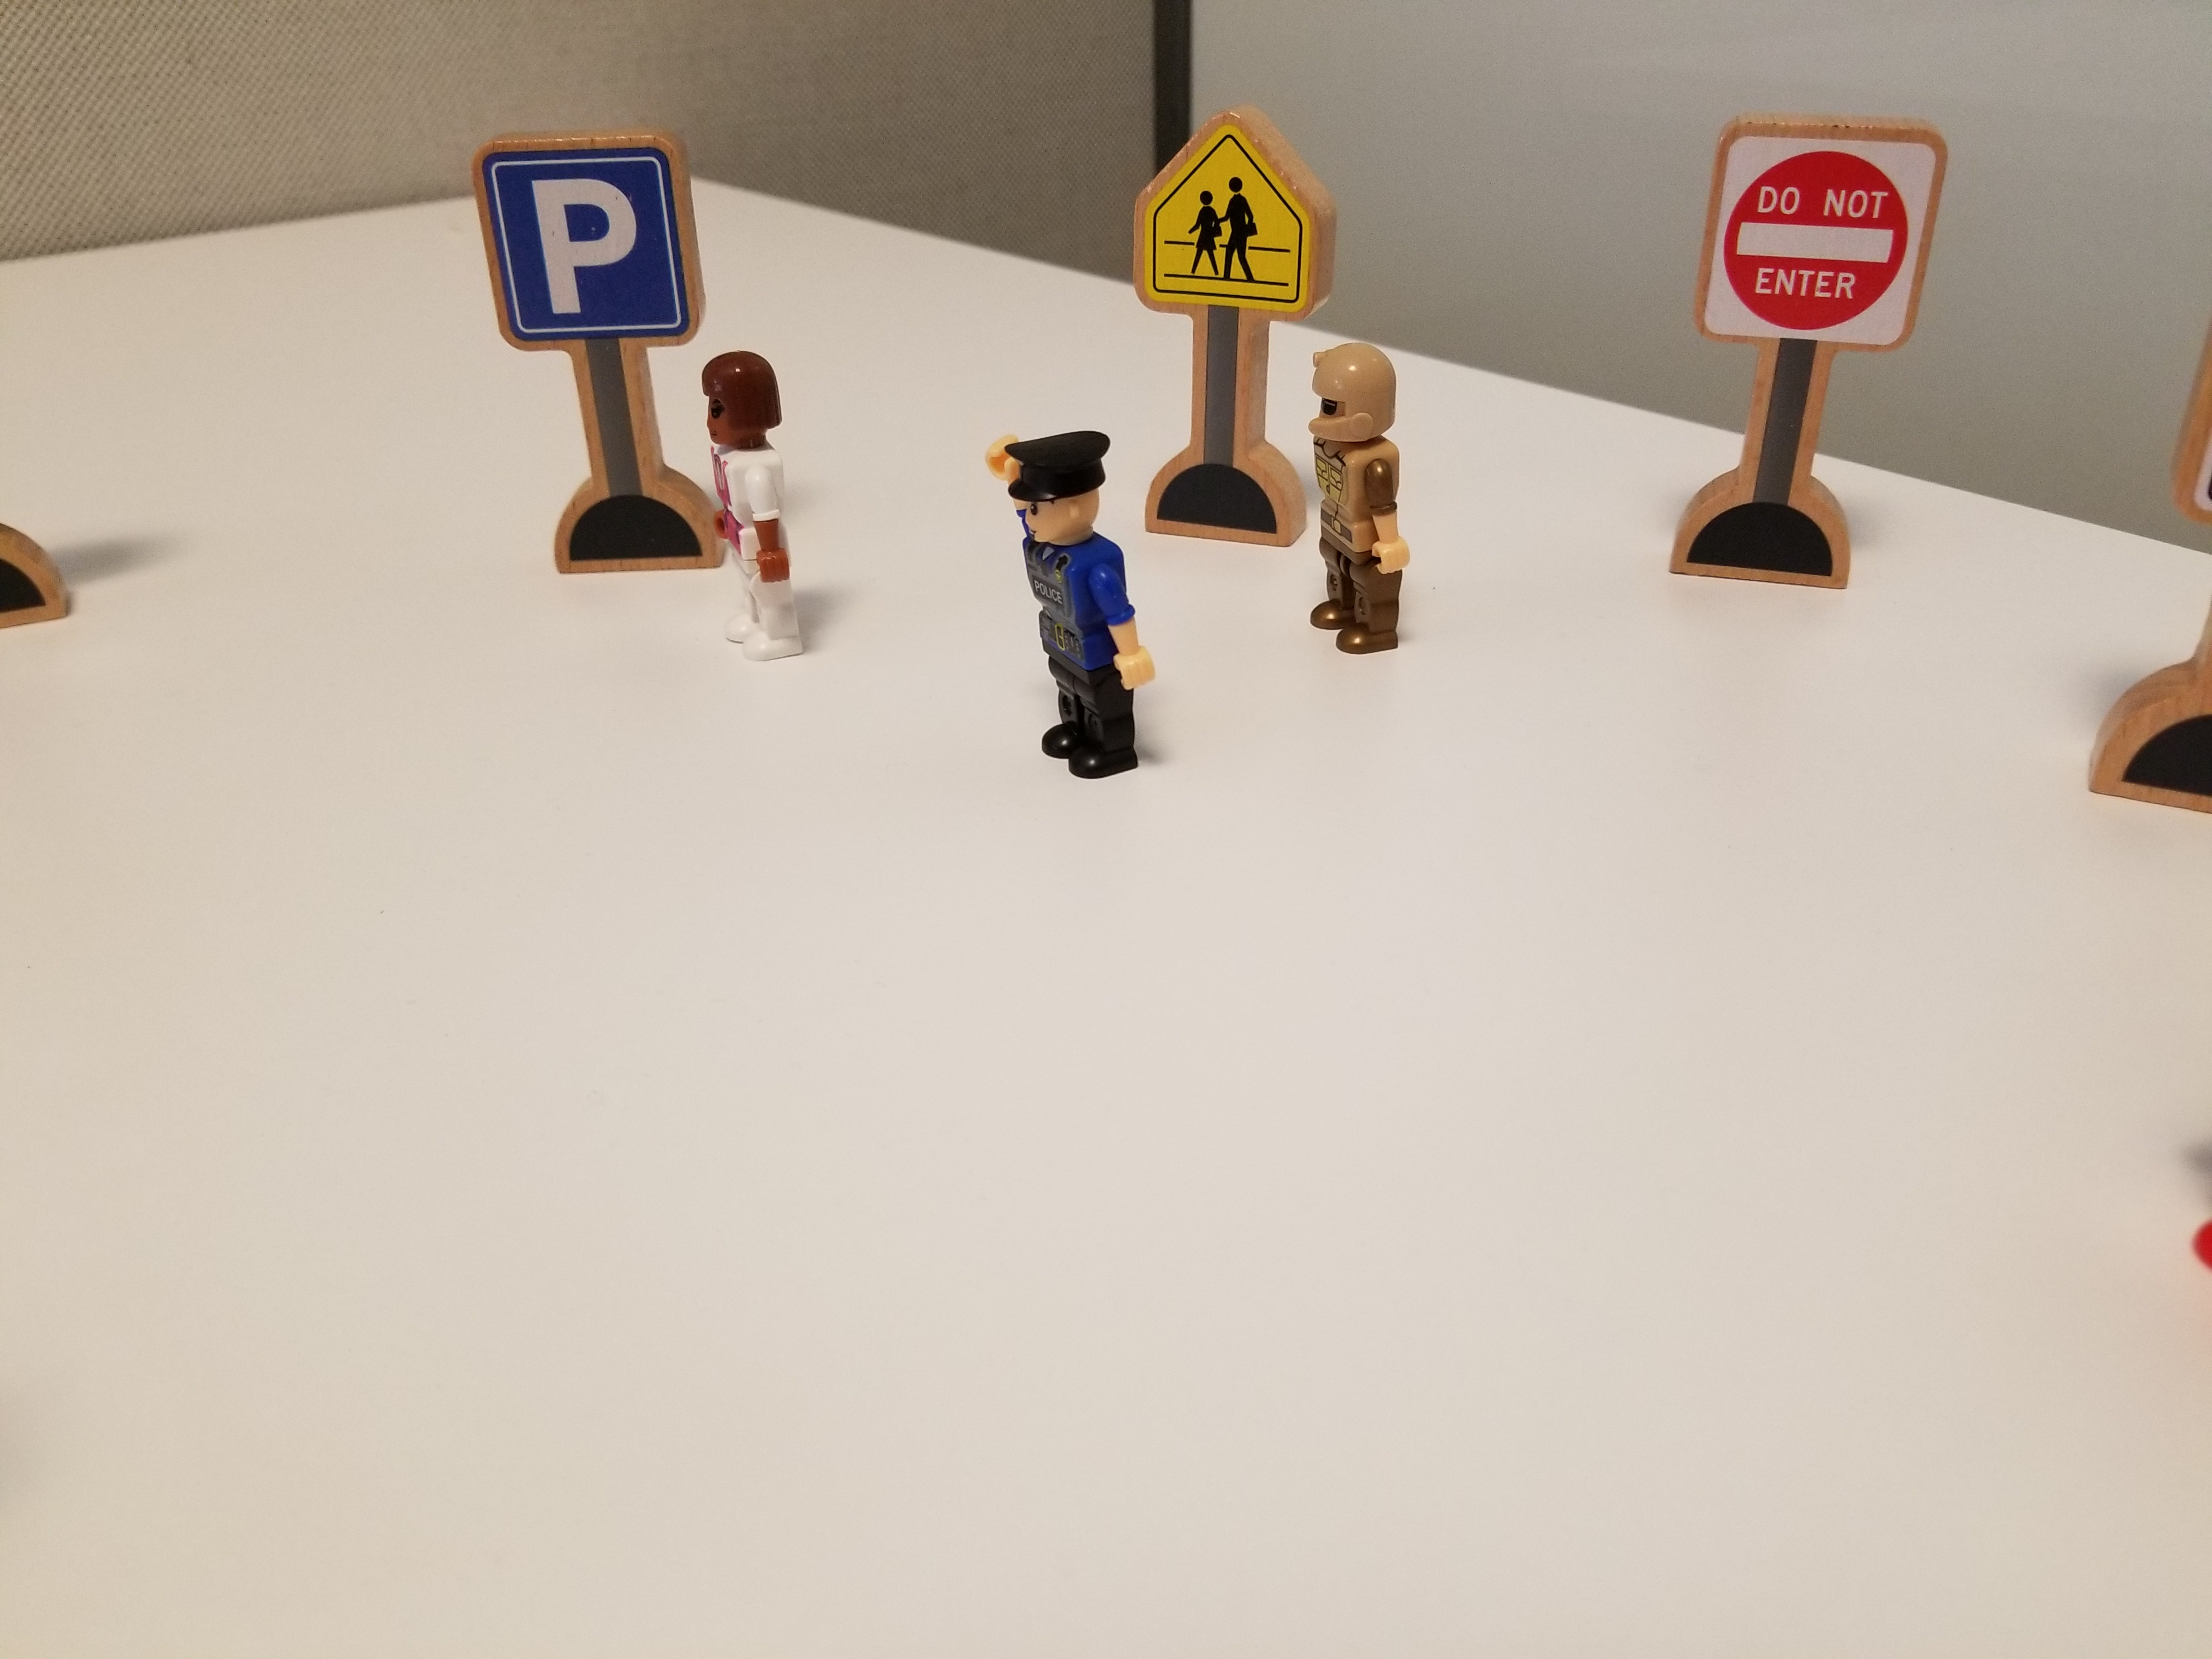Do not enter: (1689, 82, 1941, 624)
Parking: (460, 124, 703, 381)
Pedestrian crossing: (1081, 67, 1362, 350)
person: (956, 405, 1199, 795), (670, 337, 820, 697), (1285, 321, 1432, 688)
